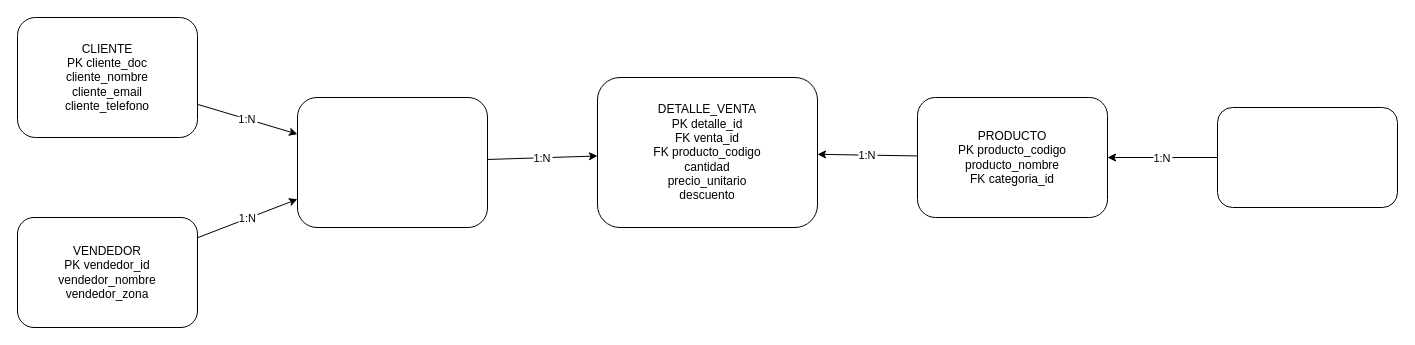
This 1415x345 diagram has some shape labels left out. Here are the shapes that lost their labels. From the top down, the box of each, then its label:
(296, 96, 488, 228): VENTA PK venta_id fecha_venta FK cliente_doc FK vendedor_id metodo_pago
(1216, 106, 1398, 208): CATEGORIA PK categoria_id nombre_categoria
